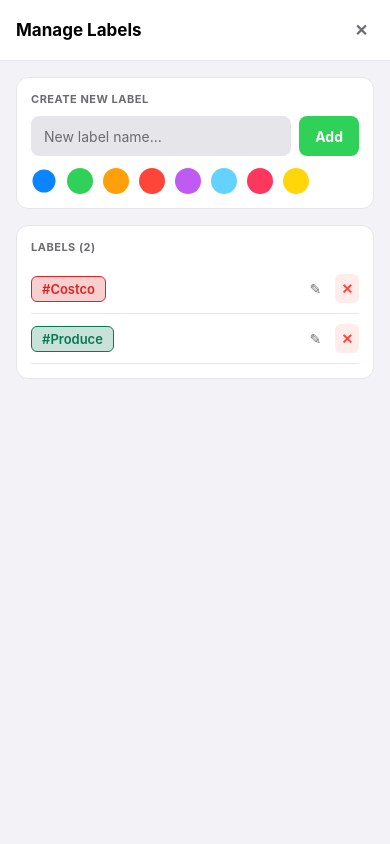
Test: LabelManagementModal › allows renaming a label
The image size is (390, 844).
# Tap edit on Costco (id: 1)
Step 1. Click the element with test id "edit-label-1" → (315, 288), box [310,280,321,297]
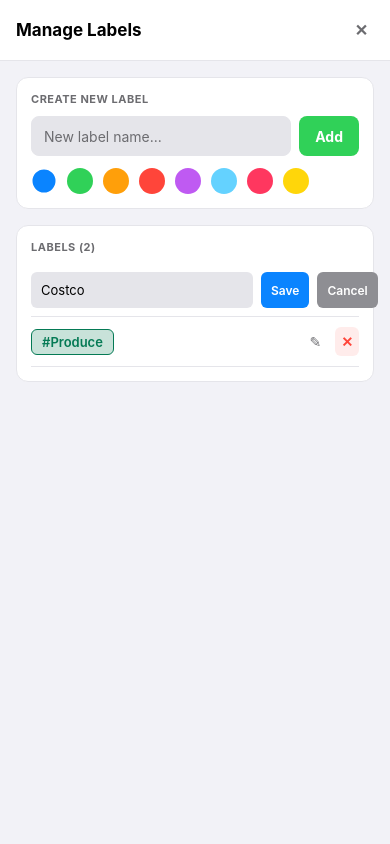
Step 2. Replace the text in the field showing "Costco" with "Costco Wholesale" → (142, 290), box [31,272,253,308]
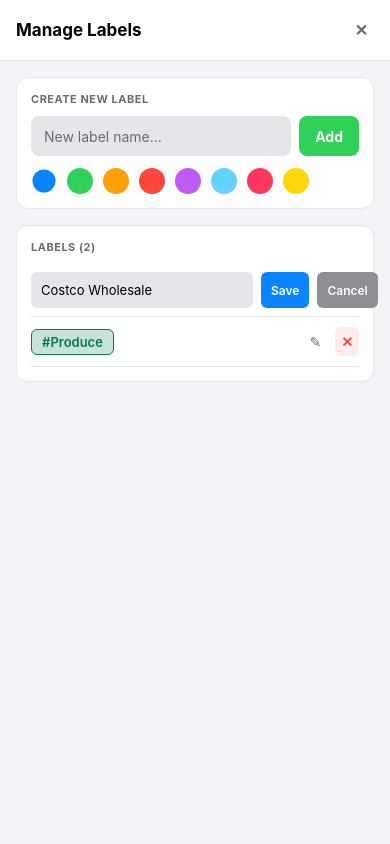
Step 3. Click the element with test id "save-label-1" → (285, 290), box [261,272,309,308]
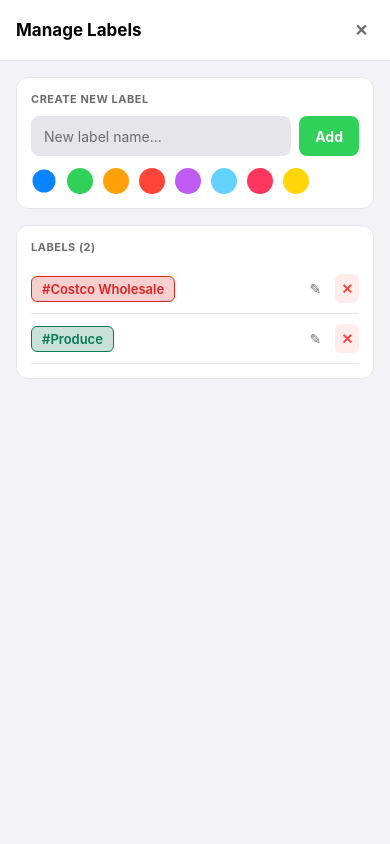
expect the text "#Costco Wholesale" is shown: met, box [42,280,164,296]
